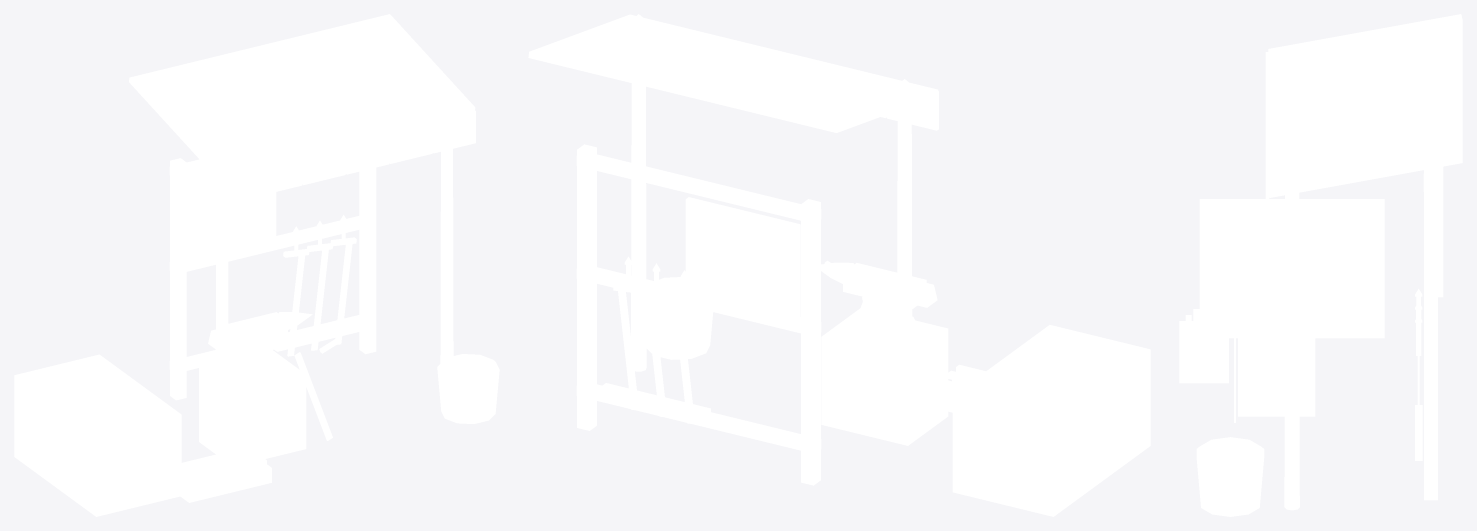
The model's file is aydor_smithy.glb.
3 views of the same model, side by side, from view 1: azimuth 30°, elevation 25°; view 2: azimuth 150°, elevation 25°; view 3: azimuth 270°, elevation 25° (orthographic). The views are drawn at different scales.
Parts seen in each view (by area): view 1: aydor_smithy; view 2: aydor_smithy; view 3: aydor_smithy.
Part boxes in pixels (<box>): aydor_smithy: <box>14,14,499,516</box>; aydor_smithy: <box>528,14,1150,516</box>; aydor_smithy: <box>1179,14,1462,516</box>.
Bounding box in the file's own units: 3.49 × 2.57 × 1.83.
1 material, 1 textured.
